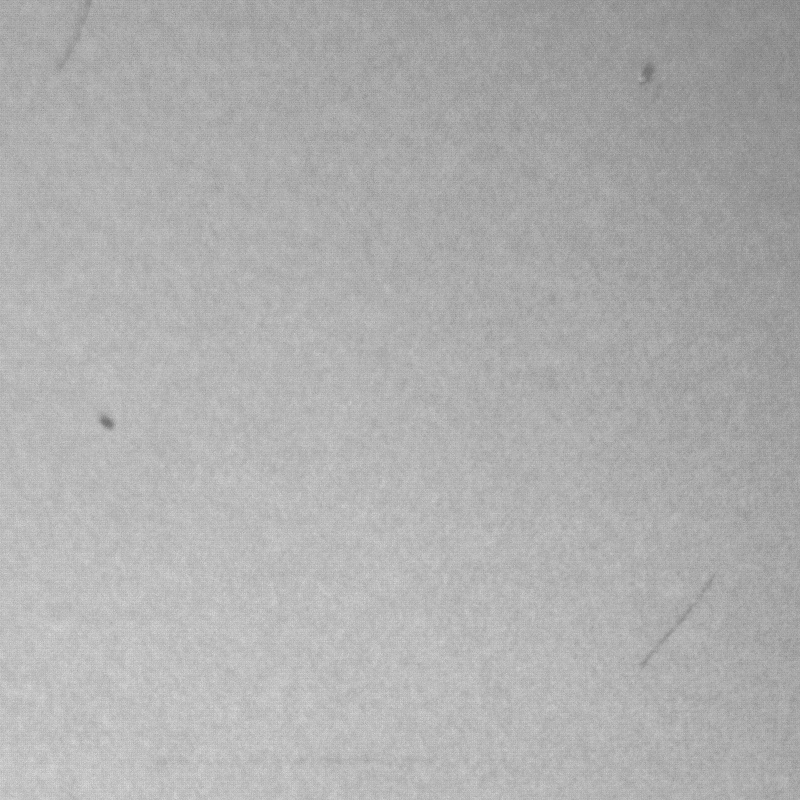defect: (635, 579, 711, 671), (54, 1, 93, 69), (638, 60, 660, 87), (99, 409, 113, 430)
